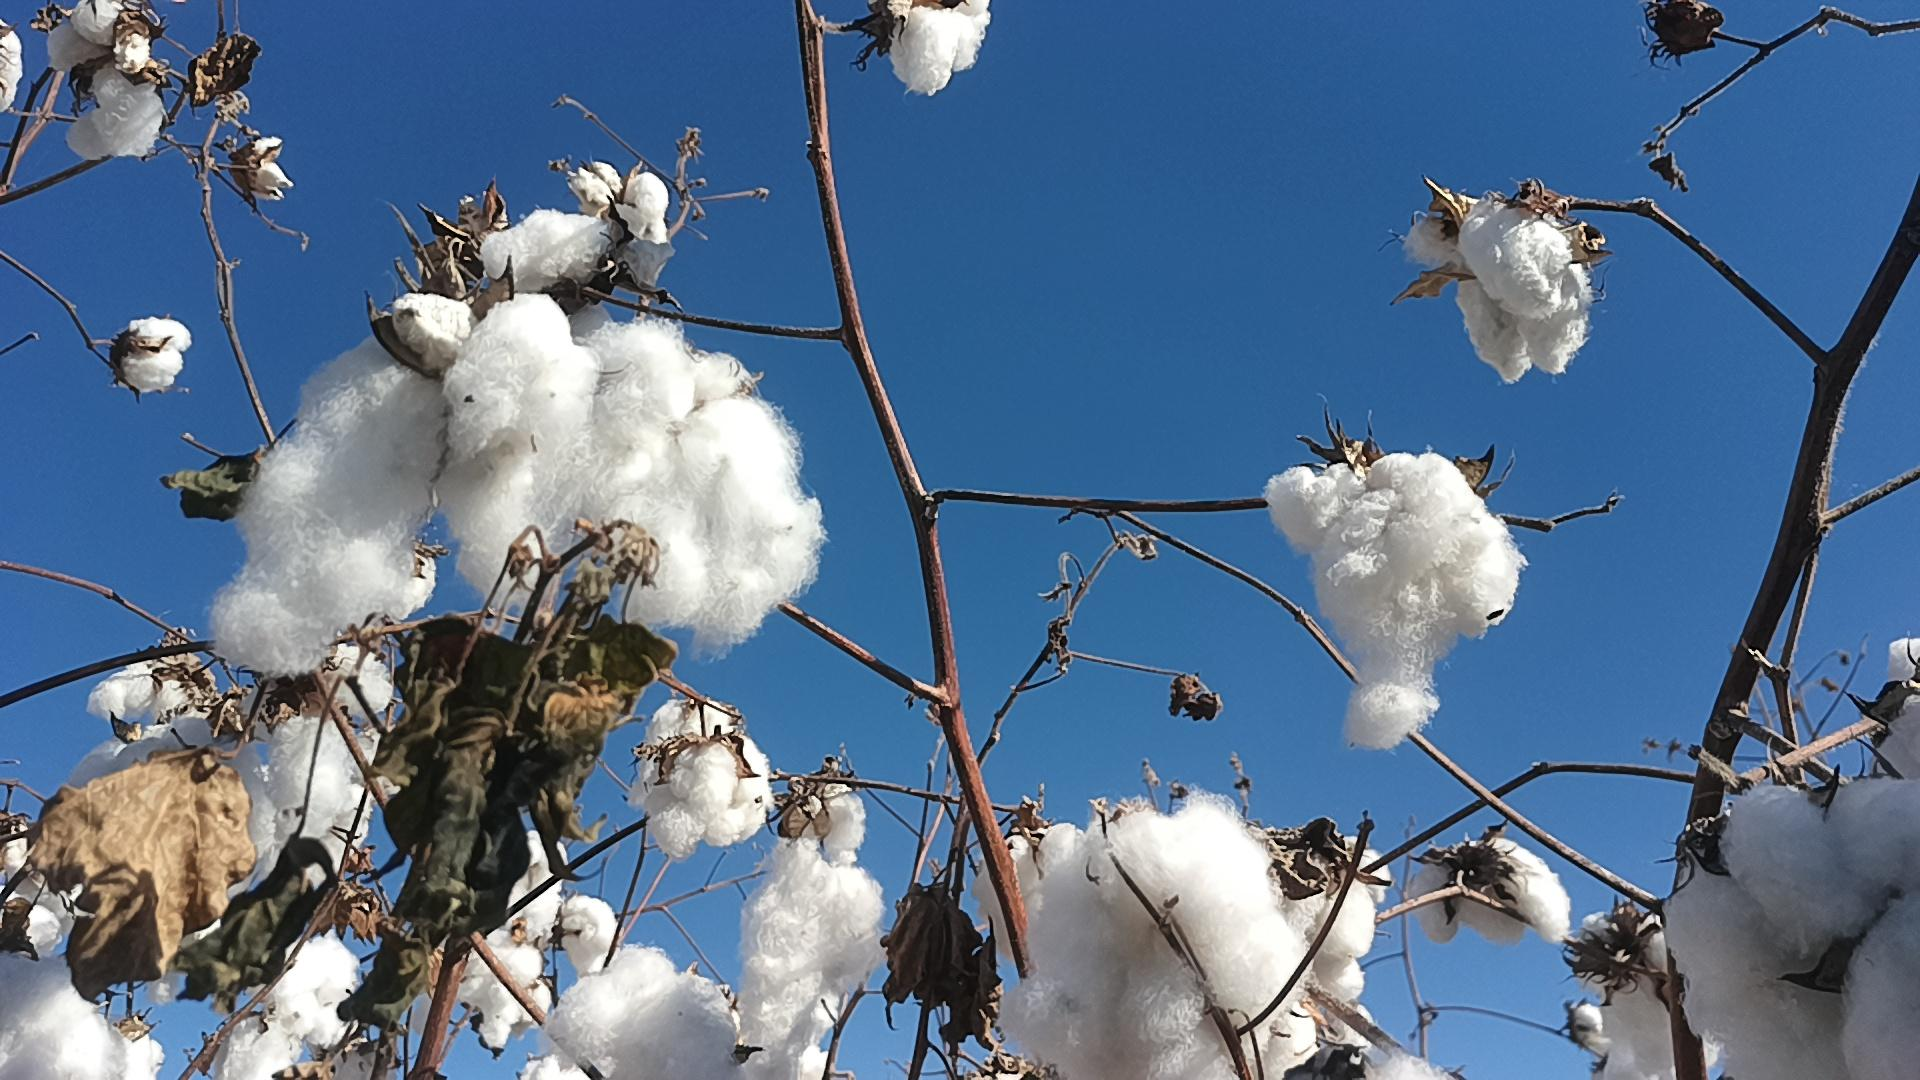cotton_ready: (443, 290, 822, 644), (211, 297, 480, 678), (998, 790, 1308, 1080), (1663, 775, 1920, 1080), (1262, 454, 1520, 753), (245, 644, 393, 882), (1403, 198, 1592, 384), (737, 845, 884, 1080), (480, 156, 669, 295), (549, 943, 737, 1080), (632, 688, 775, 851), (1255, 831, 1390, 1002), (63, 647, 214, 789), (220, 938, 363, 1080), (1406, 840, 1575, 951), (0, 940, 121, 1080), (1576, 915, 1677, 1080), (890, 0, 988, 95), (66, 71, 166, 161), (44, 0, 156, 73), (787, 781, 868, 866), (1875, 636, 1920, 785), (0, 24, 21, 111)
